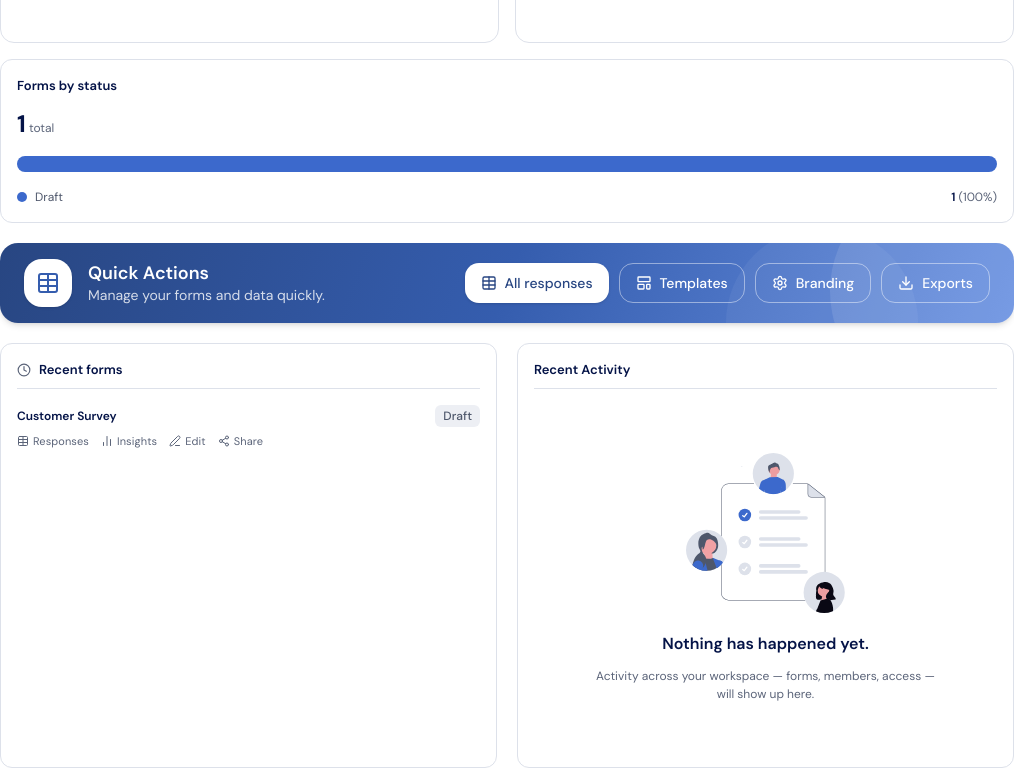
Test: WorkspaceHomePage (/w/[slug]/page) › clicking Share opens FormAccessPanel for that specific form, not a dead link
What coordinates should you click on to do the following:
click the button "Share"
I would click on:
 (240, 441)
Its box is [218,433,263,449].
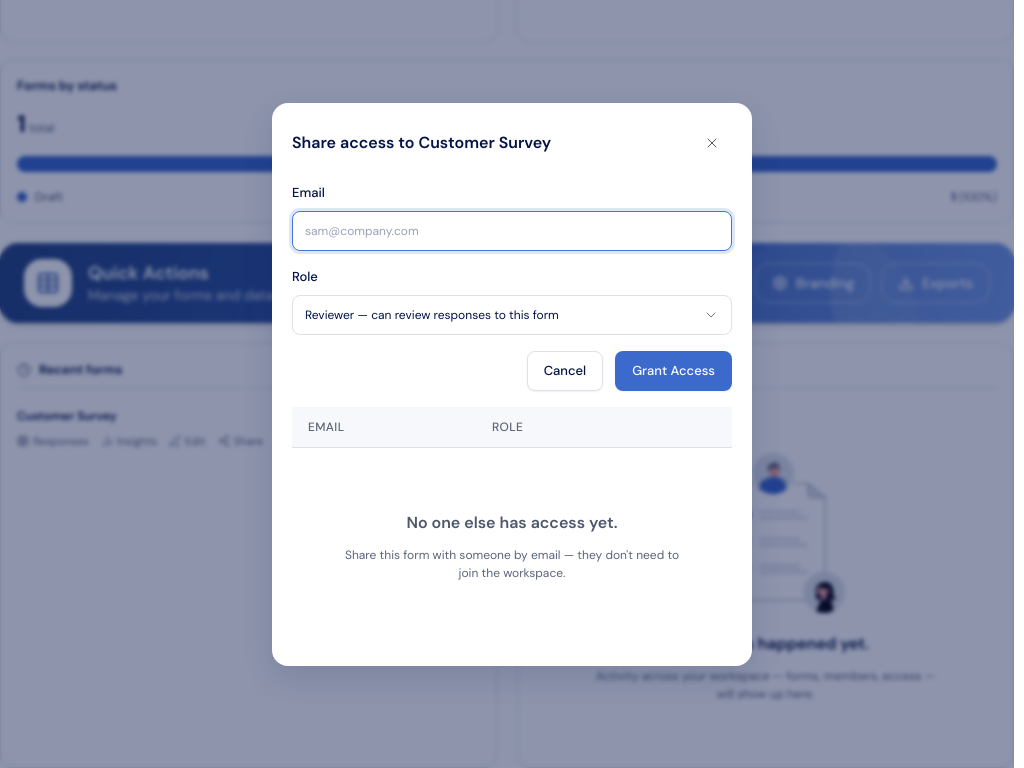
Result: the heading "Share access to Customer Survey" is shown at [292,130,551,154]
